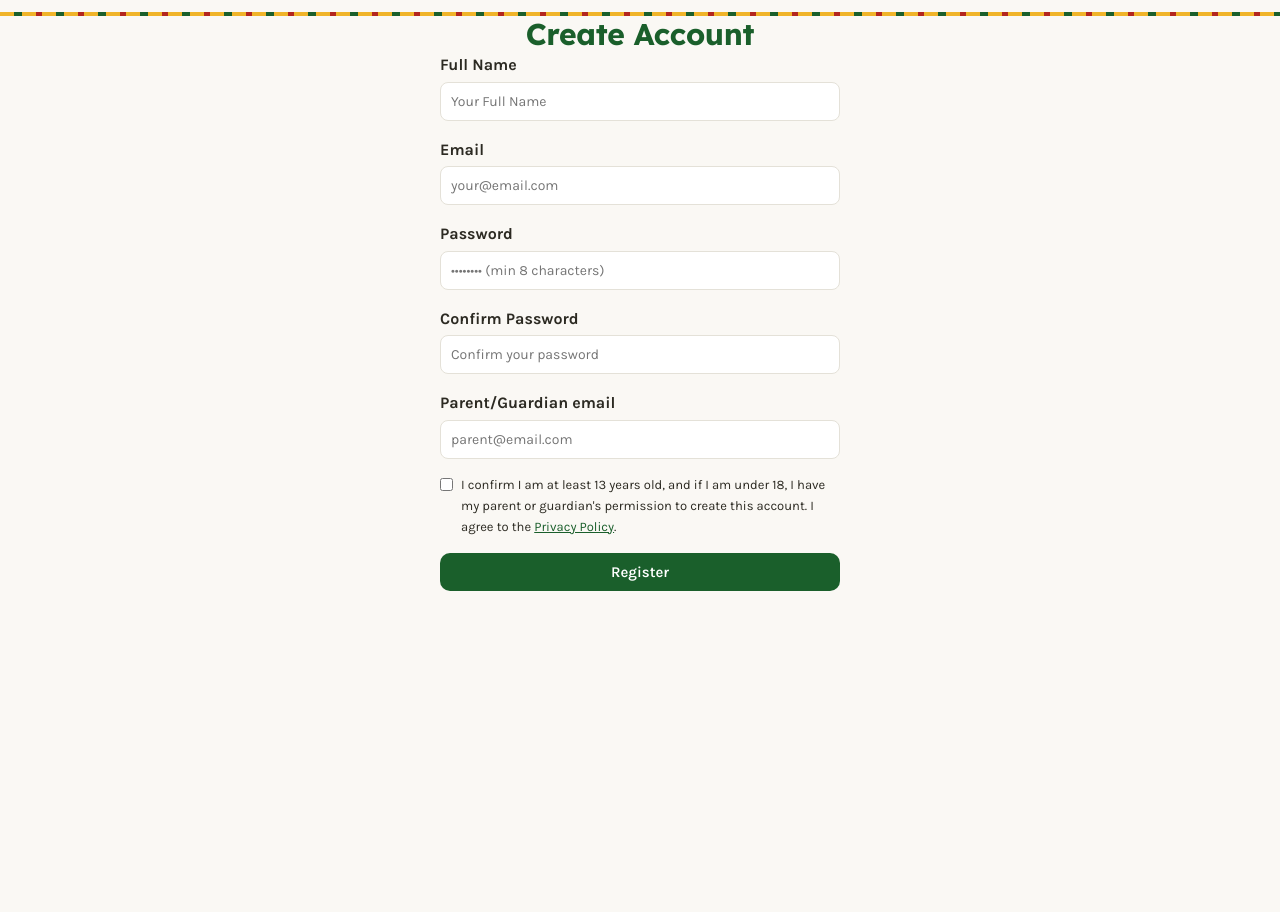
it: Register › blocks submission when guardian email matches the student email
Type "Test Student" into the field labelled "Full Name" at coordinates (640, 101), box top-left (440, 82), bottom-right (840, 121)
Type "same@test.com" into the field labelled "Email" at coordinates (640, 186), box top-left (440, 166), bottom-right (840, 205)
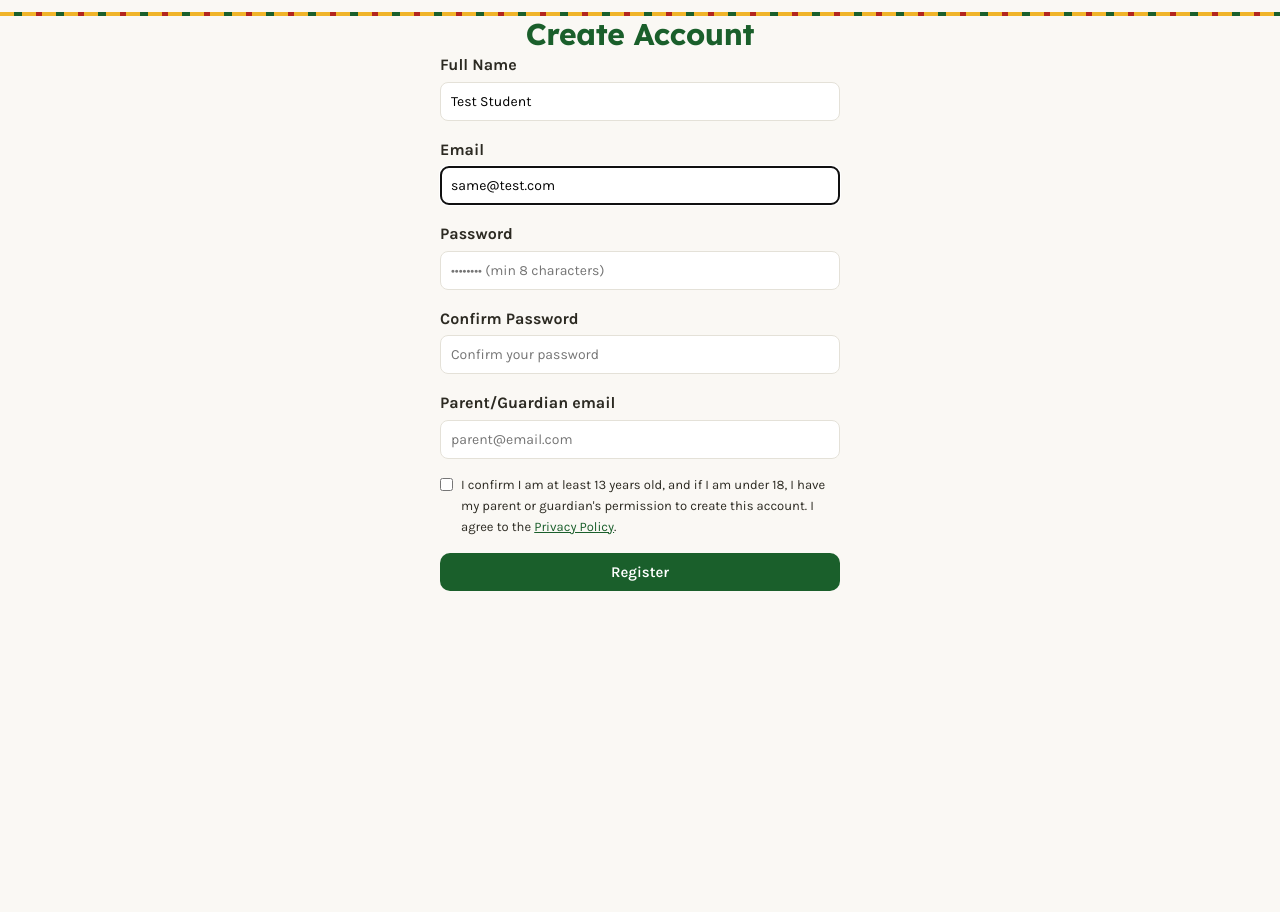
Type "password123" into the password field labelled "Password" at coordinates (640, 270), box top-left (440, 251), bottom-right (840, 290)
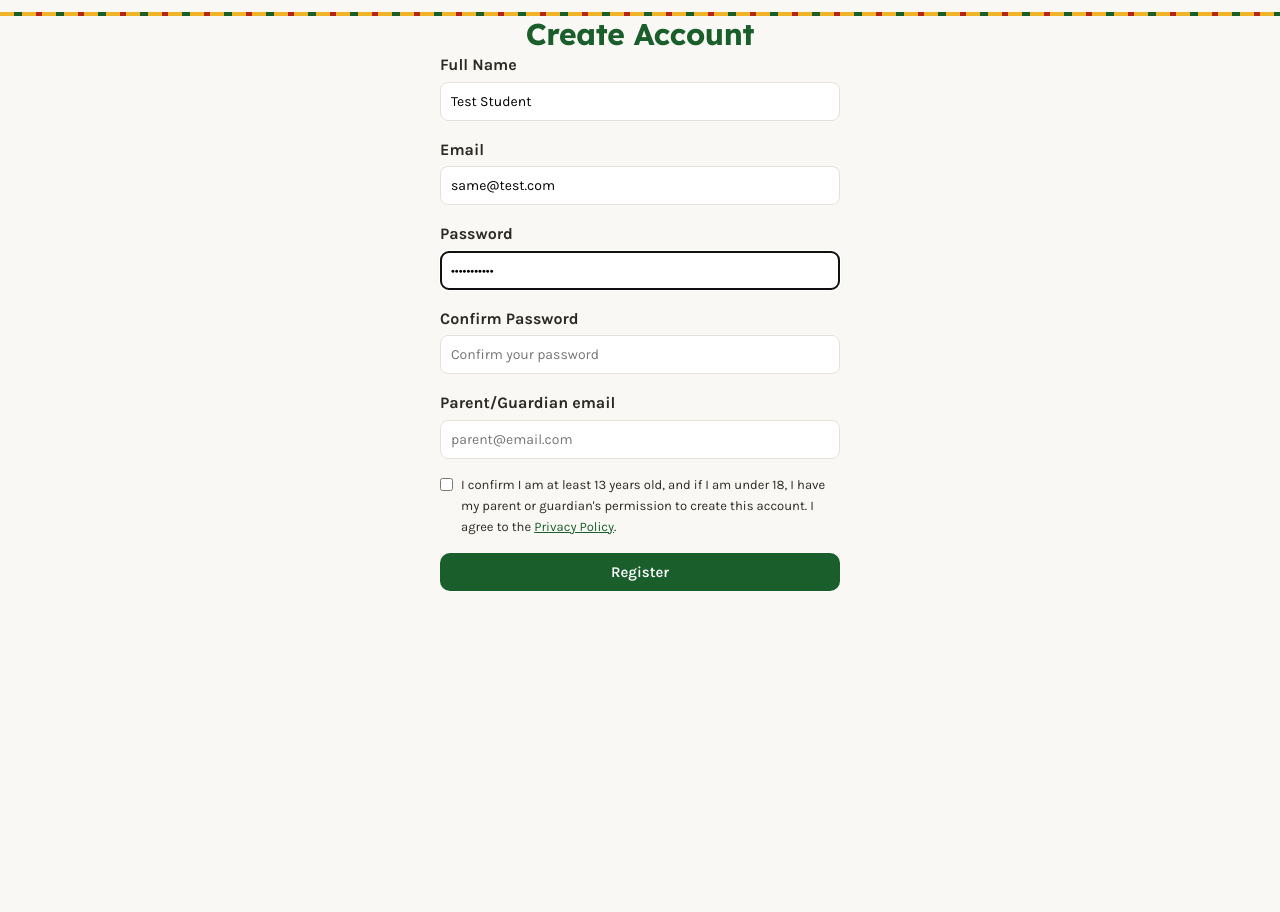
Type "password123" into the password field labelled "Confirm Password" at coordinates (640, 355), box top-left (440, 335), bottom-right (840, 374)
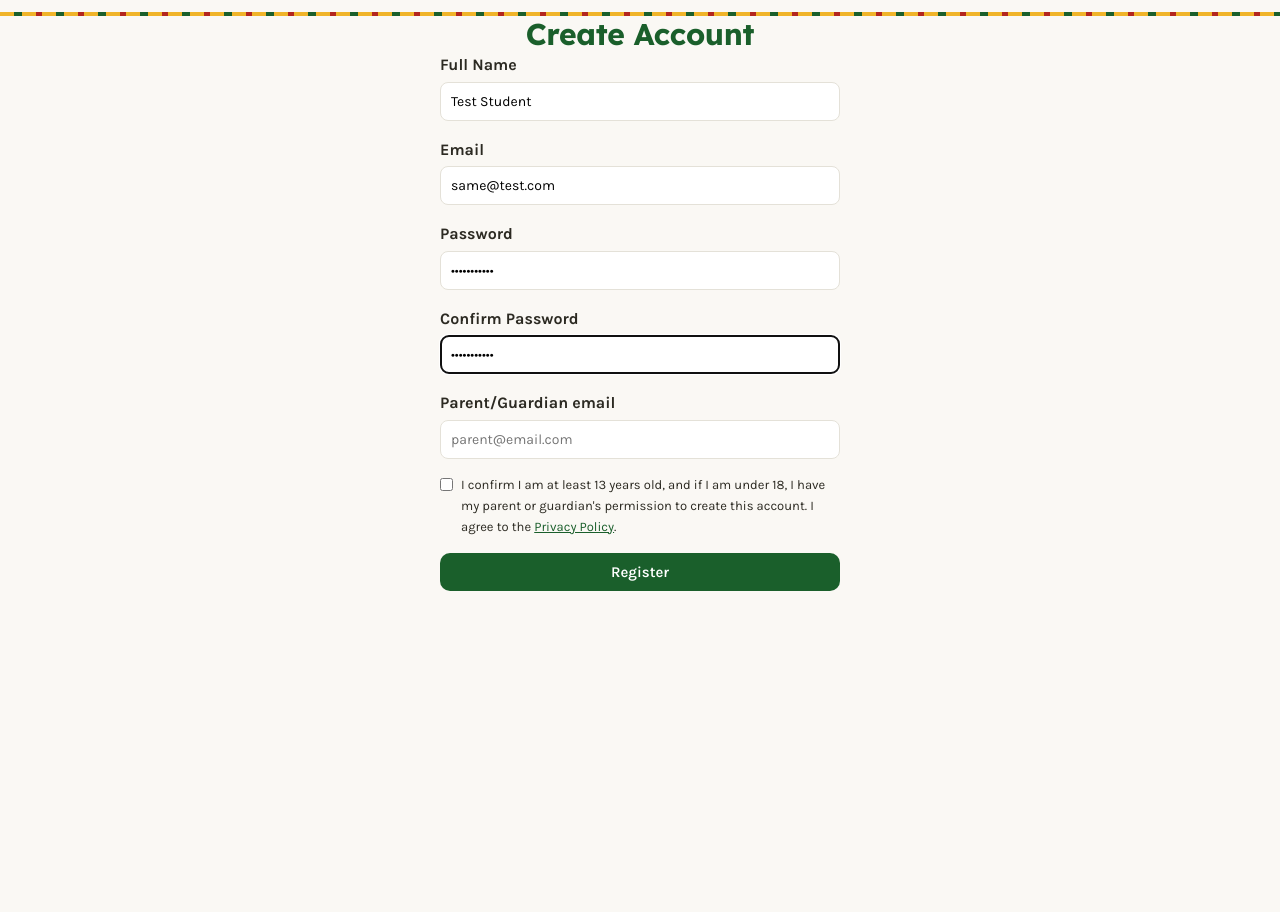
Type "same@test.com" into the field labelled "Parent/Guardian email" at coordinates (640, 440), box top-left (440, 420), bottom-right (840, 459)
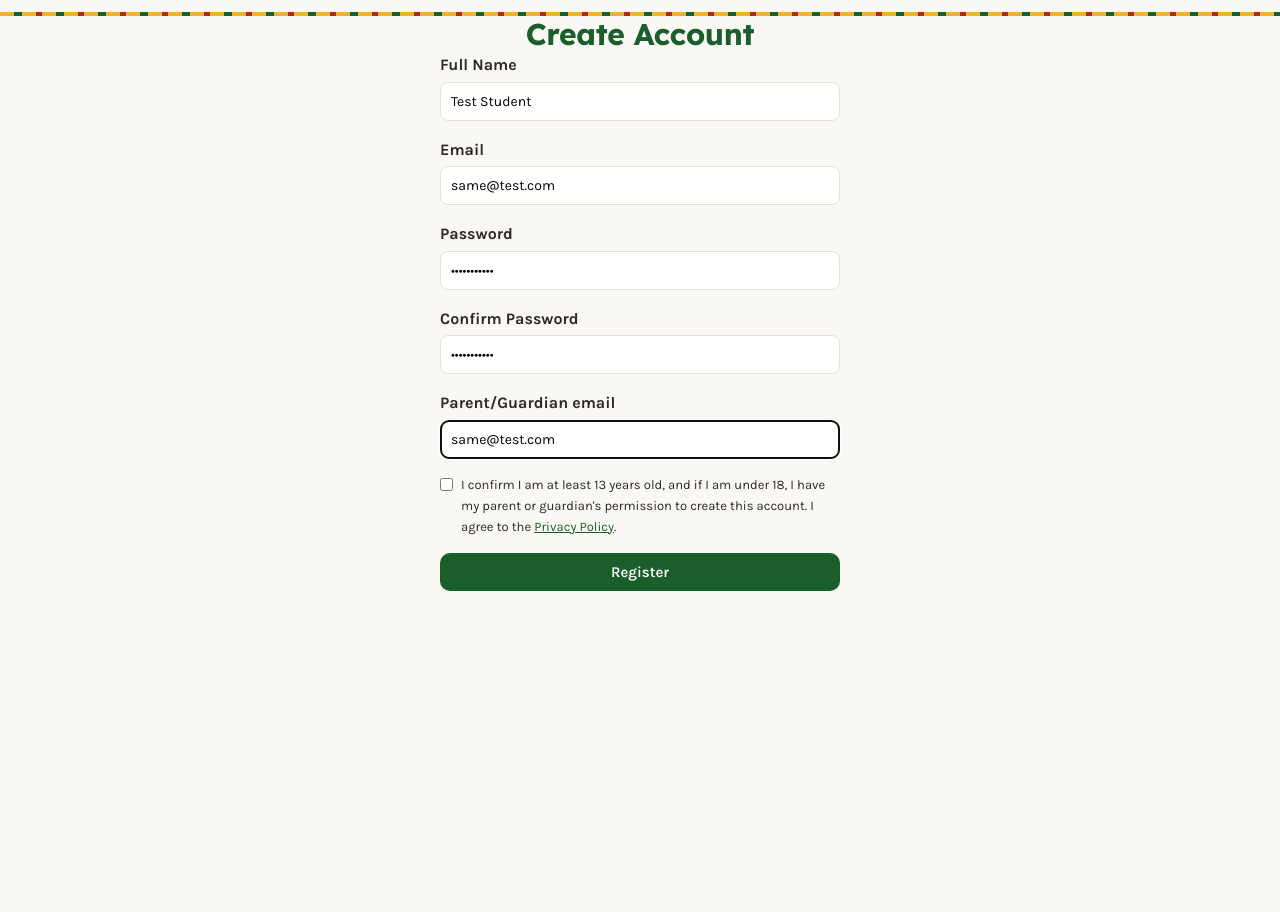
Click the checkbox at coordinates (446, 484), box top-left (440, 478), bottom-right (453, 491)
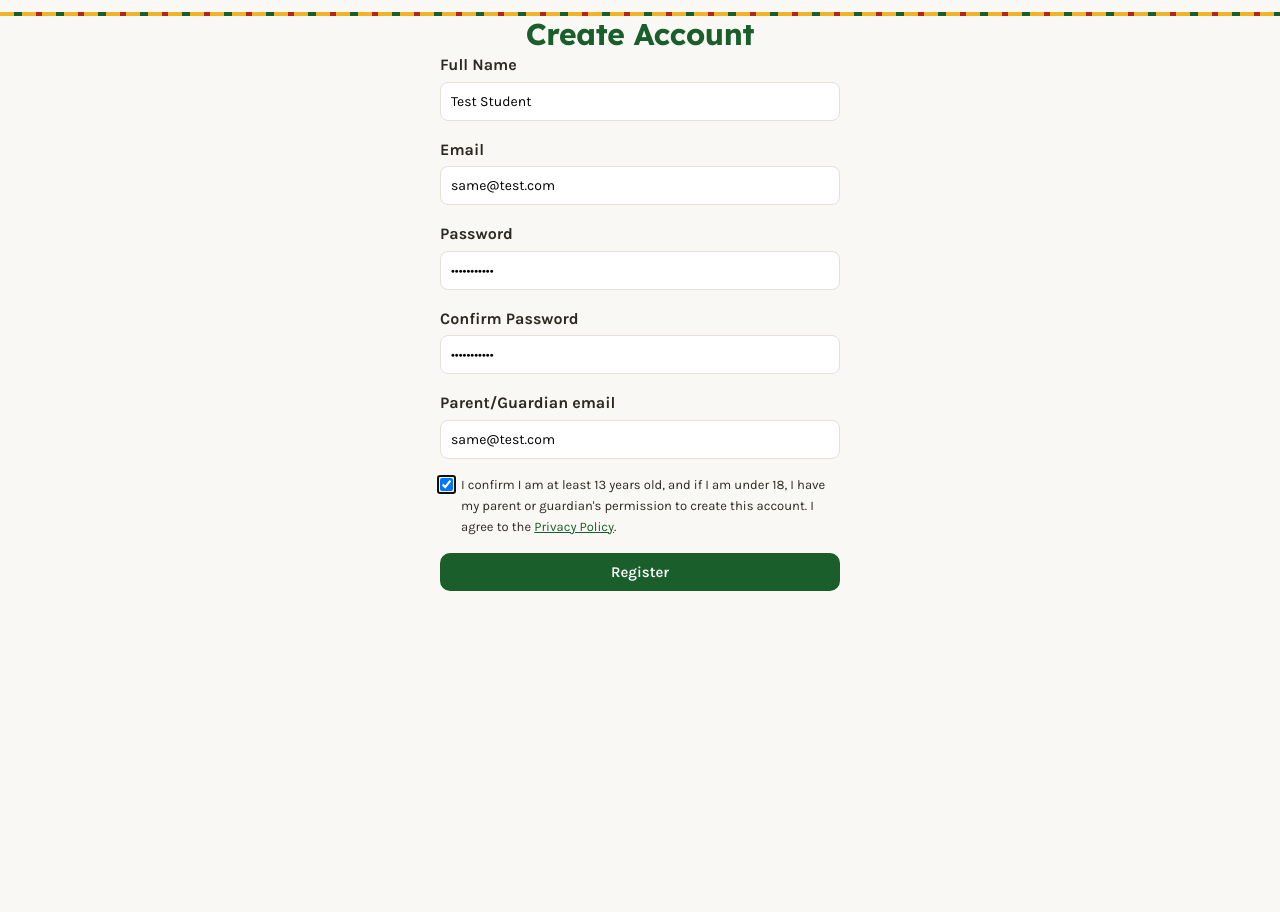
Click the button "Register" at coordinates (640, 572), box top-left (440, 553), bottom-right (840, 591)
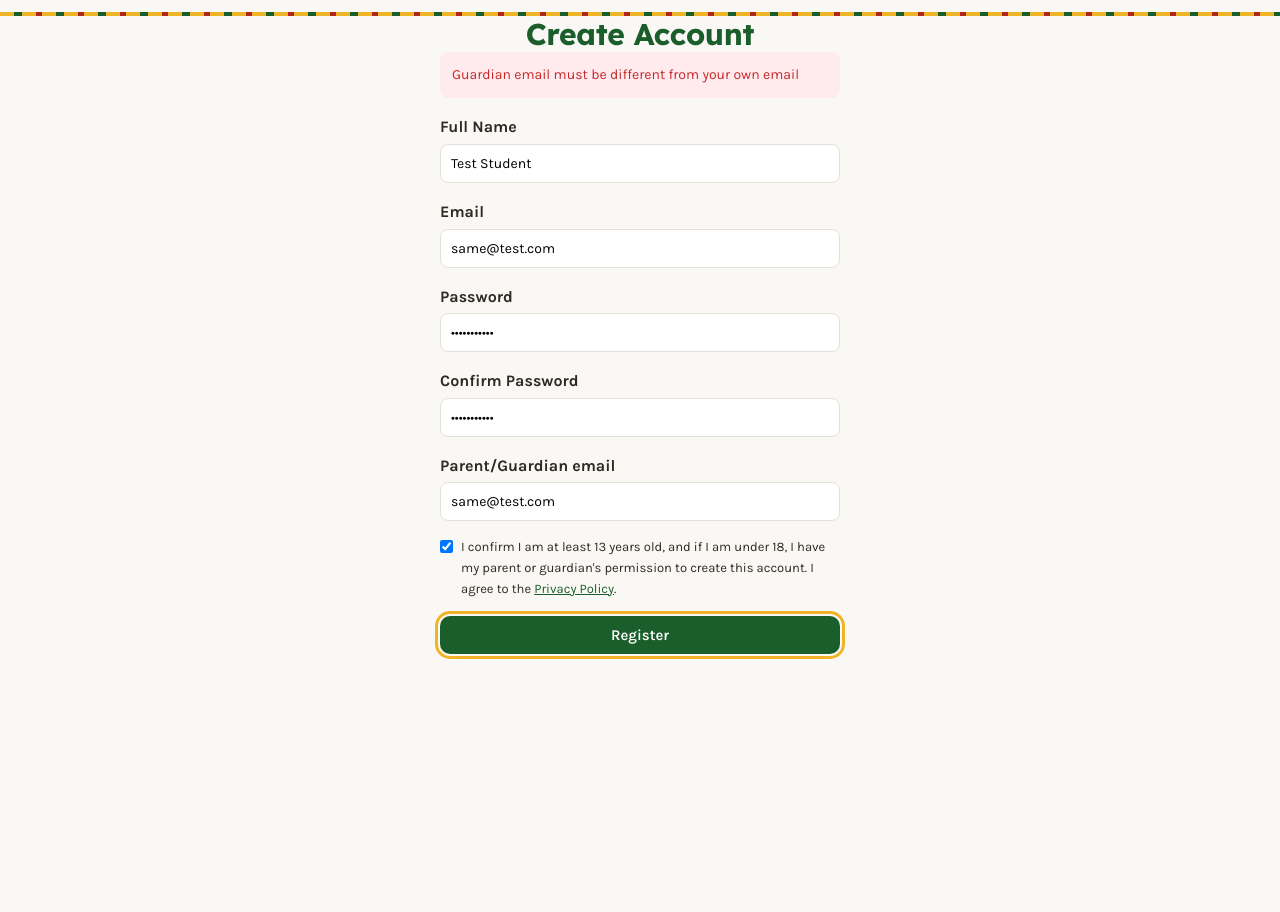
Check: the text "Guardian email must be different from your own email" is shown, box top-left (440, 52), bottom-right (840, 98)
